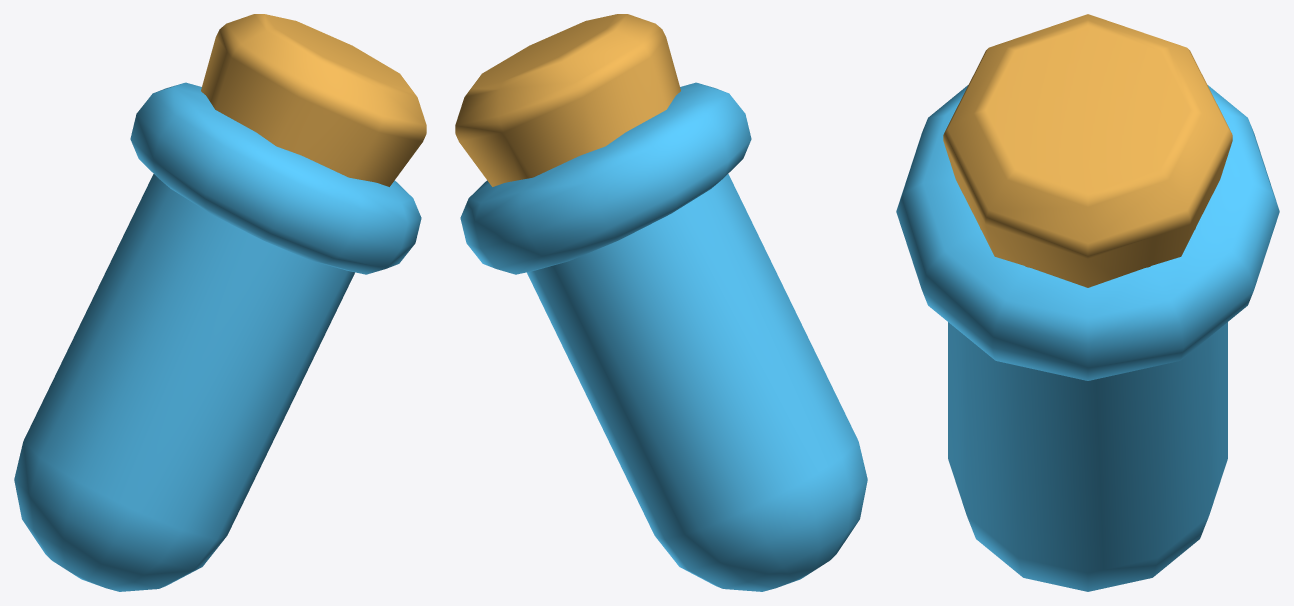
3 views of the same model, side by side, from view 1: azimuth 30°, elevation 25°; view 2: azimuth 150°, elevation 25°; view 3: azimuth 270°, elevation 25° (orthographic). The views are drawn at different scales.
Visible parts, largest first — view 1: model_0.089; view 2: model_0.089; view 3: model_0.089.
Boxes of the visible parts, box(x1,y1,x2,y2) form: model_0.089: box(14, 14, 426, 591); model_0.089: box(455, 14, 867, 591); model_0.089: box(896, 14, 1279, 591).
Bounding box in the file's own units: 3.18 × 4.12 × 2.24.
